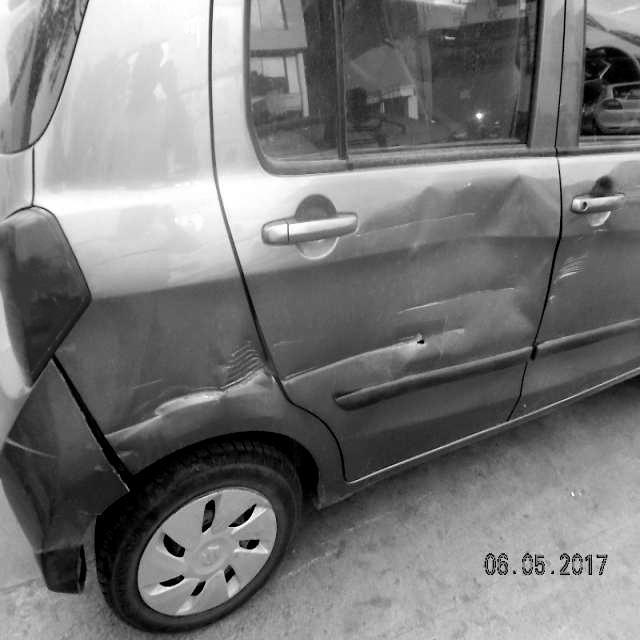doorouter-dent: (289, 166, 557, 398)
quaterpanel-dent: (111, 356, 272, 446)
